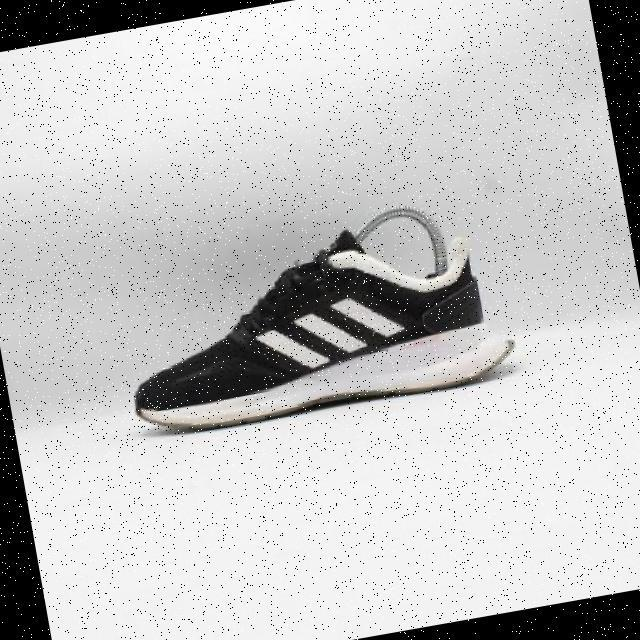Adidas: (249, 287, 411, 381)
